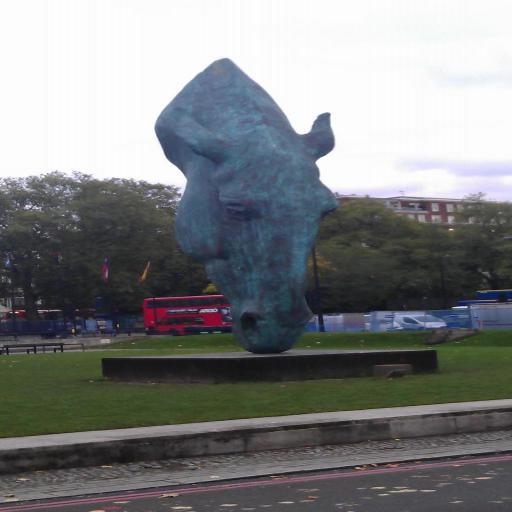Horse: (146, 52, 336, 356)
